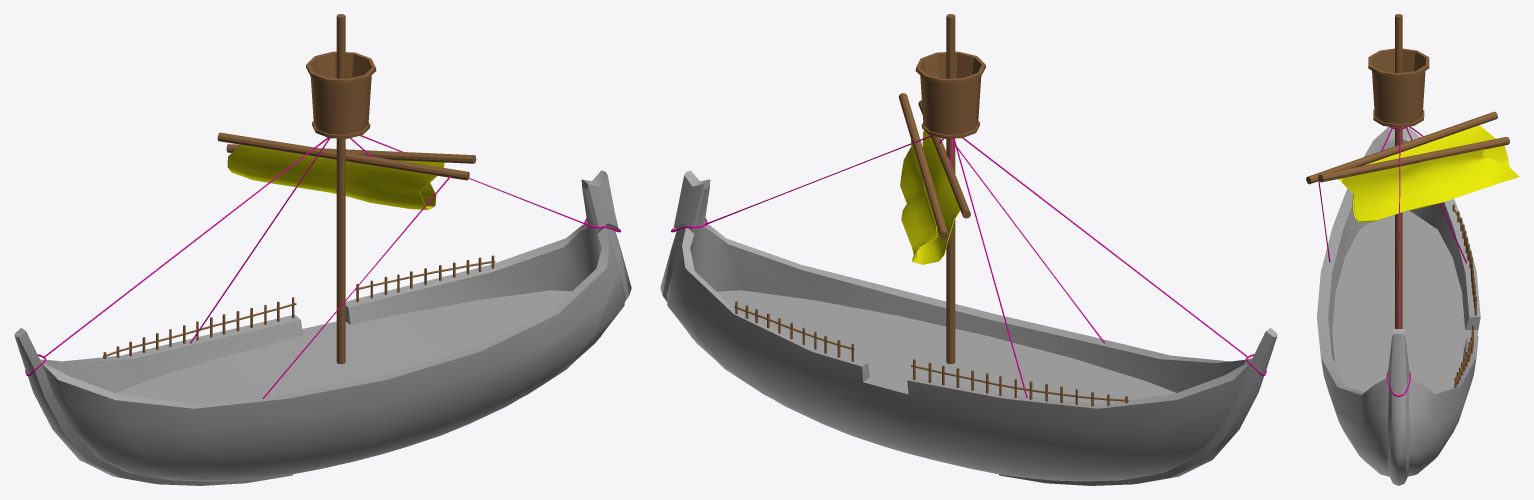
The model's file is Barco1.fbx.
3 views of the same model, side by side, from view 1: azimuth 30°, elevation 25°; view 2: azimuth 150°, elevation 25°; view 3: azimuth 270°, elevation 25° (orthographic). The views are drawn at different scales.
Parts seen in each view (by area): view 1: pSphere3, pPlane6, pCylinder14, pCylinder1, pCylinder2, pCylinder47, pCylinder16, polySurface1, polySurface2; view 2: pSphere3, pCylinder14, pPlane6, pCylinder1, pCylinder47, pCylinder16, polySurface1, polySurface2, pCylinder2; view 3: pSphere3, pPlane6, pCylinder14, pCylinder16, pCylinder2, pCylinder1, pCylinder47, polySurface1, polySurface2.
Part boxes in pixels (x1=…): pSphere3: x1=14, y1=170, x2=631, y2=485; pPlane6: x1=227, y1=145, x2=444, y2=210; pCylinder14: x1=306, y1=51, x2=376, y2=138; pCylinder1: x1=336, y1=14, x2=345, y2=364; pCylinder2: x1=217, y1=132, x2=469, y2=180; pCylinder47: x1=103, y1=255, x2=495, y2=358; pCylinder16: x1=226, y1=144, x2=476, y2=163; polySurface1: x1=25, y1=135, x2=620, y2=375; polySurface2: x1=190, y1=138, x2=451, y2=398; pSphere3: x1=660, y1=170, x2=1277, y2=485; pCylinder14: x1=915, y1=51, x2=985, y2=138; pPlane6: x1=900, y1=130, x2=960, y2=264; pCylinder1: x1=946, y1=14, x2=955, y2=364; pCylinder47: x1=734, y1=301, x2=1128, y2=406; pCylinder16: x1=898, y1=93, x2=948, y2=239; polySurface1: x1=671, y1=135, x2=1266, y2=375; polySurface2: x1=953, y1=138, x2=1104, y2=397; pCylinder2: x1=918, y1=100, x2=970, y2=218; pSphere3: x1=1317, y1=126, x2=1480, y2=485; pPlane6: x1=1338, y1=125, x2=1519, y2=222; pCylinder14: x1=1368, y1=48, x2=1429, y2=127; pCylinder16: x1=1318, y1=137, x2=1509, y2=182; pCylinder2: x1=1306, y1=111, x2=1497, y2=184; pCylinder1: x1=1395, y1=14, x2=1402, y2=328; pCylinder47: x1=1452, y1=204, x2=1476, y2=387; polySurface1: x1=1386, y1=126, x2=1410, y2=397; polySurface2: x1=1318, y1=127, x2=1466, y2=263.
Bounding box in the file's own units: 164804 × 114146 × 54318.
